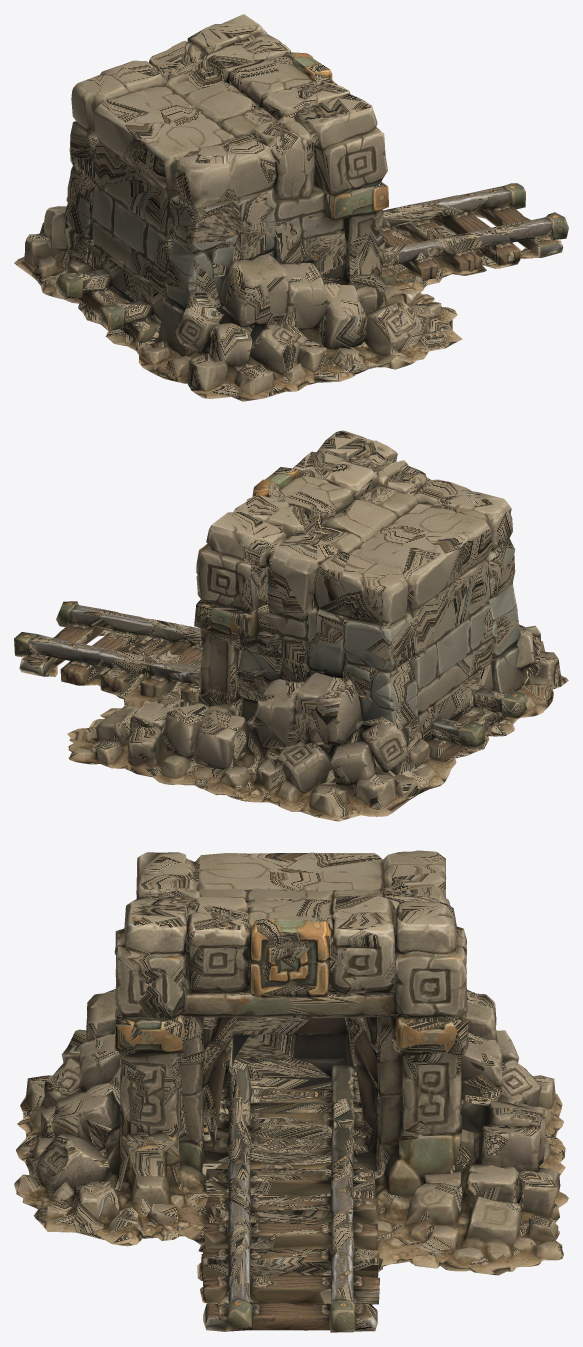
File: stone_mine_tunnel_03.glb
The picture shows the model from 3 angles, top to bottom: view 1: azimuth 30°, elevation 25°; view 2: azimuth 150°, elevation 25°; view 3: azimuth 270°, elevation 25°; orthographic projection. The views are drawn at different scales.
Visible parts, largest first — view 1: tripo_node_525ab2d7-4ed6-463f-b534-24516cb5014a; view 2: tripo_node_525ab2d7-4ed6-463f-b534-24516cb5014a; view 3: tripo_node_525ab2d7-4ed6-463f-b534-24516cb5014a.
Boxes of the visible parts, box(x1,y1,x2,y2) form: tripo_node_525ab2d7-4ed6-463f-b534-24516cb5014a: box(14, 14, 568, 401); tripo_node_525ab2d7-4ed6-463f-b534-24516cb5014a: box(14, 430, 568, 821); tripo_node_525ab2d7-4ed6-463f-b534-24516cb5014a: box(14, 850, 568, 1332).
Size of the model in its own units: 0.9815 by 0.4586 by 0.8287.
1 material, 1 textured.
